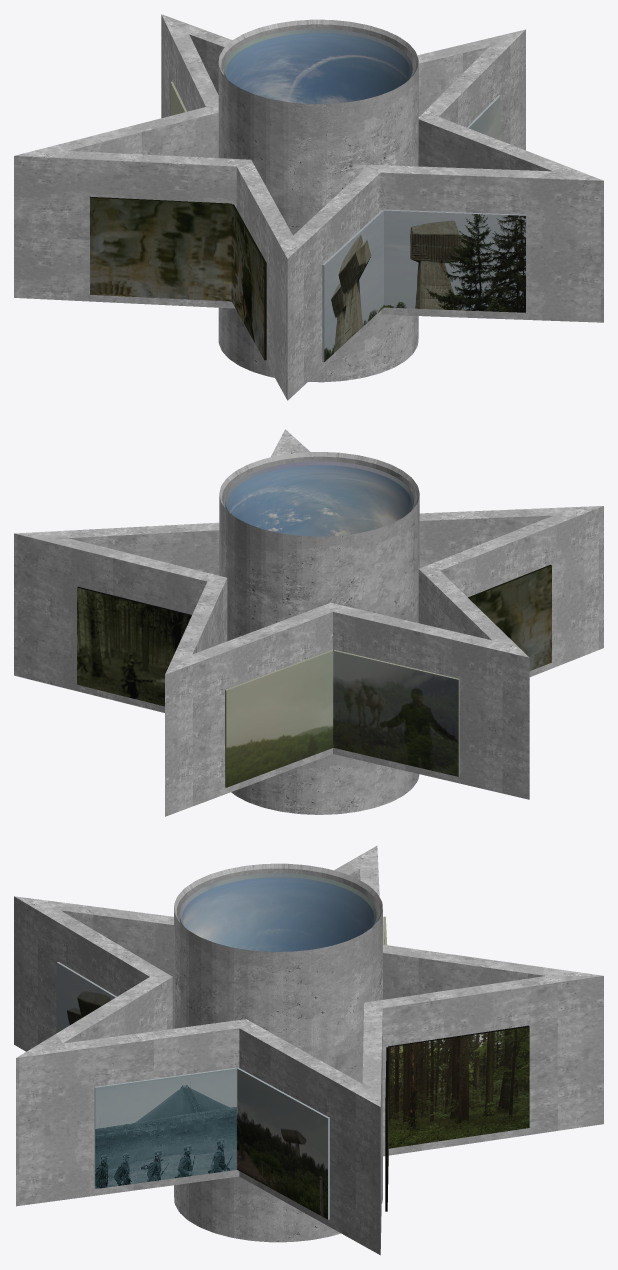
File: nis.glb
The picture shows the model from 3 angles, top to bottom: view 1: azimuth 30°, elevation 25°; view 2: azimuth 150°, elevation 25°; view 3: azimuth 270°, elevation 25°; orthographic projection. The views are drawn at different scales.
Visible parts, largest first — view 1: neuer Stern, Circle, videotarget, mostar, Cylinder.003, mitrovica; view 2: neuer Stern, Circle, tjentiste, Cylinder.003, kozara, mostar; view 3: neuer Stern, Circle, mitrovica, kozara, Cylinder.003, videotarget.
Part boxes in pixels (<box>): neuer Stern: <box>14,14,603,400</box>; Circle: <box>218,19,418,382</box>; videotarget: <box>322,209,526,362</box>; mostar: <box>90,196,266,360</box>; Cylinder.003: <box>224,29,412,104</box>; mitrovica: <box>467,95,500,140</box>; neuer Stern: <box>14,429,603,816</box>; Circle: <box>219,452,419,814</box>; tjentiste: <box>225,650,459,787</box>; Cylinder.003: <box>225,461,413,536</box>; kozara: <box>77,586,191,706</box>; mostar: <box>468,564,551,670</box>; neuer Stern: <box>14,846,603,1255</box>; Circle: <box>174,863,382,1242</box>; mitrovica: <box>94,1067,329,1219</box>; kozara: <box>385,1025,529,1211</box>; Cylinder.003: <box>180,873,376,951</box>; videotarget: <box>56,962,116,1032</box>.
Bounding box in the file's own units: 13.96 × 7.22 × 13.3.
Materials: 8 (8 with a texture image).
